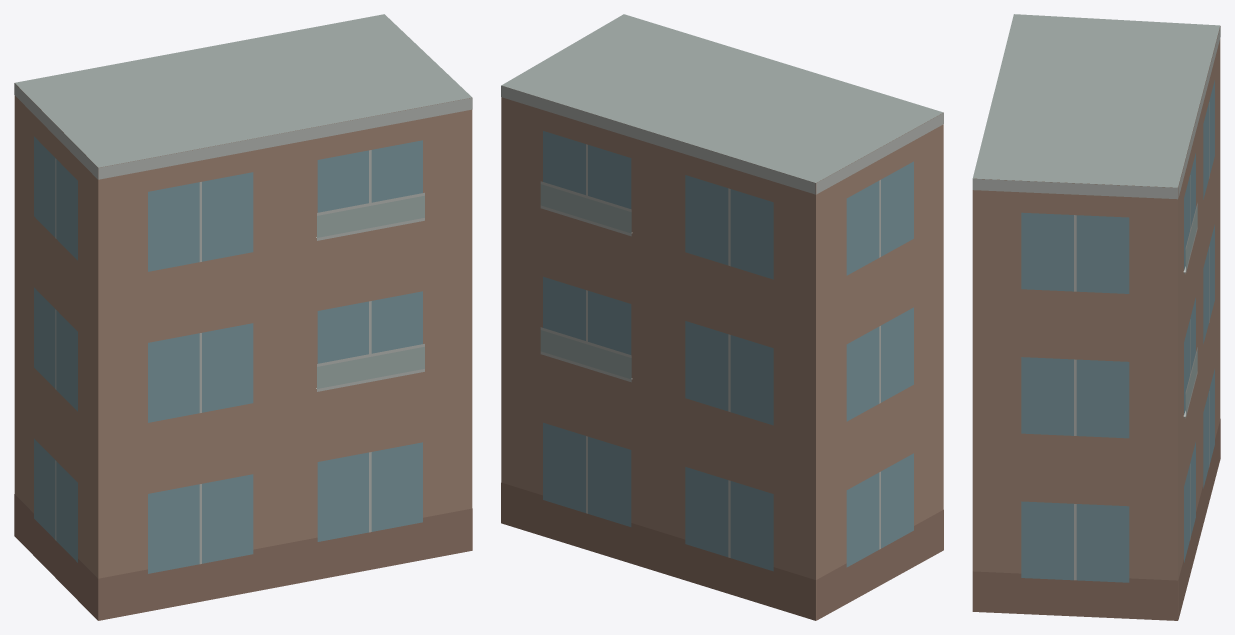
The model's file is survey-upis-33044886.glb.
The picture shows the model from 3 angles, left to right: view 1: azimuth 30°, elevation 25°; view 2: azimuth 150°, elevation 25°; view 3: azimuth 270°, elevation 25°; orthographic projection. The views are drawn at different scales.
Visible parts, largest first — view 1: survey-upis-33044886.tmp; view 2: survey-upis-33044886.tmp; view 3: survey-upis-33044886.tmp.
Boxes of the visible parts, bbox=[...] form: survey-upis-33044886.tmp: bbox=[14, 14, 472, 620]; survey-upis-33044886.tmp: bbox=[501, 14, 943, 620]; survey-upis-33044886.tmp: bbox=[972, 14, 1220, 620].
Size of the model in its own units: 7.88 by 9.15 by 4.75.
